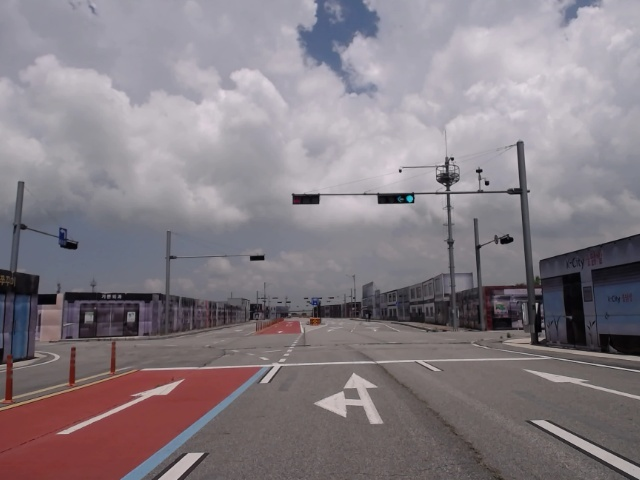all_green_4: (376, 194, 416, 204)
